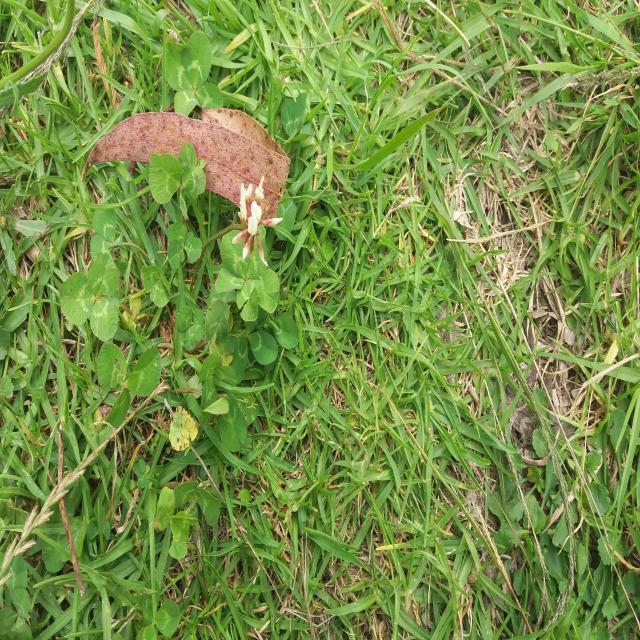Four Leaf Clover: (215, 224, 279, 322), (369, 465, 421, 564)
